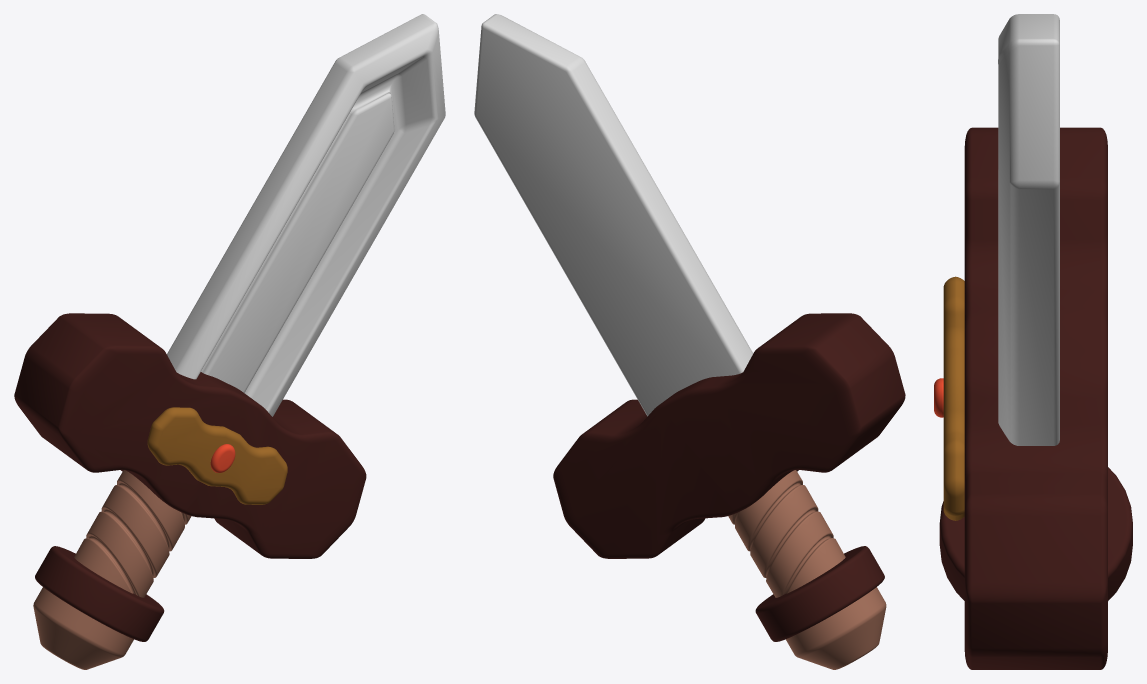
Rendered from Sword.fbx.
3 views of the same model, side by side, from view 1: azimuth 30°, elevation 25°; view 2: azimuth 150°, elevation 25°; view 3: azimuth 270°, elevation 25° (orthographic). The views are drawn at different scales.
Parts seen in each view (by area): view 1: Cube.002, Cube.003, Cylinder.001, Cube.004, Cylinder.007, Cylinder; view 2: Cube.002, Cube.003, Cylinder.001, Cylinder.007, Cylinder; view 3: Cube.003, Cube.002, Cube.004, Cylinder.007, Cylinder.002.
Boxes of the visible parts, x1,y1,x2,y2 form: Cube.002: (167,14,445,416); Cube.003: (14,313,366,558); Cylinder.001: (74,470,191,597); Cube.004: (147,407,287,504); Cylinder.007: (35,546,164,641); Cylinder: (33,587,133,669); Cube.002: (474,14,753,416); Cube.003: (553,313,905,558); Cylinder.001: (728,470,845,597); Cylinder.007: (755,546,884,641); Cylinder: (786,587,886,669); Cube.003: (964,127,1107,669); Cube.002: (998,14,1059,445); Cube.004: (943,276,964,520); Cylinder.007: (939,467,1132,600); Cylinder.002: (934,378,943,417).
Size of the model in its own units: 111 by 148 by 32.02.
